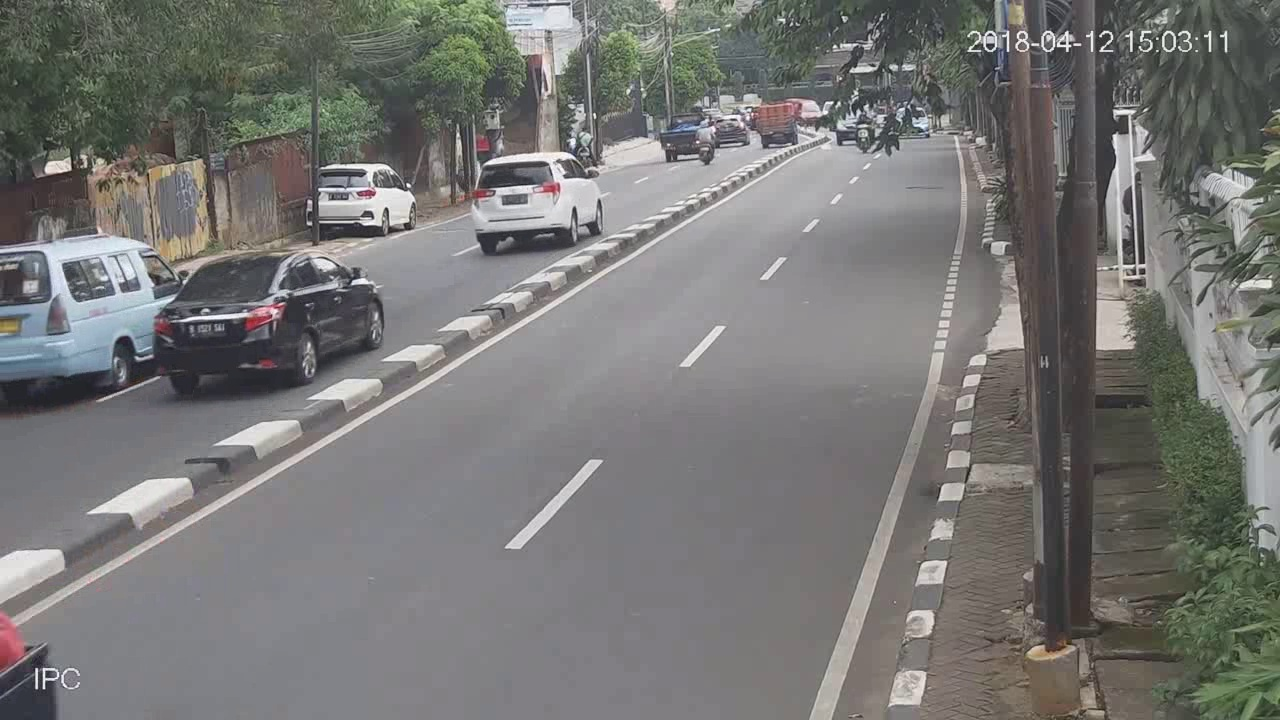car: (153, 250, 386, 391), (469, 151, 606, 249), (301, 161, 418, 237)
